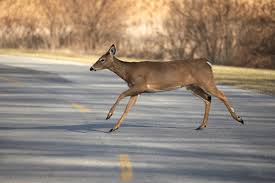deer: (88, 44, 246, 131)
